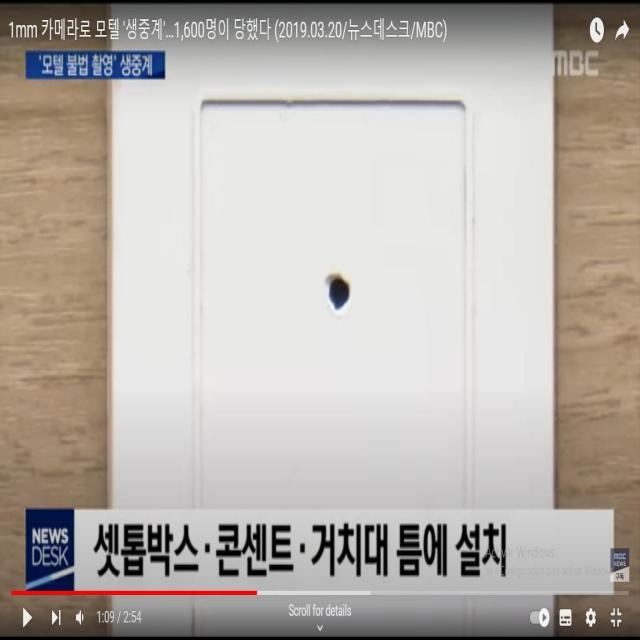hidden camera: (310, 247, 361, 330)
